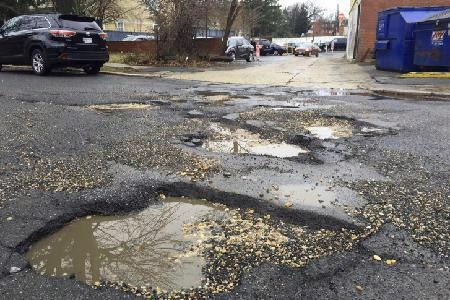pothole: (11, 179, 368, 297), (175, 115, 318, 167), (297, 112, 377, 140), (77, 99, 149, 109), (200, 89, 231, 100)
